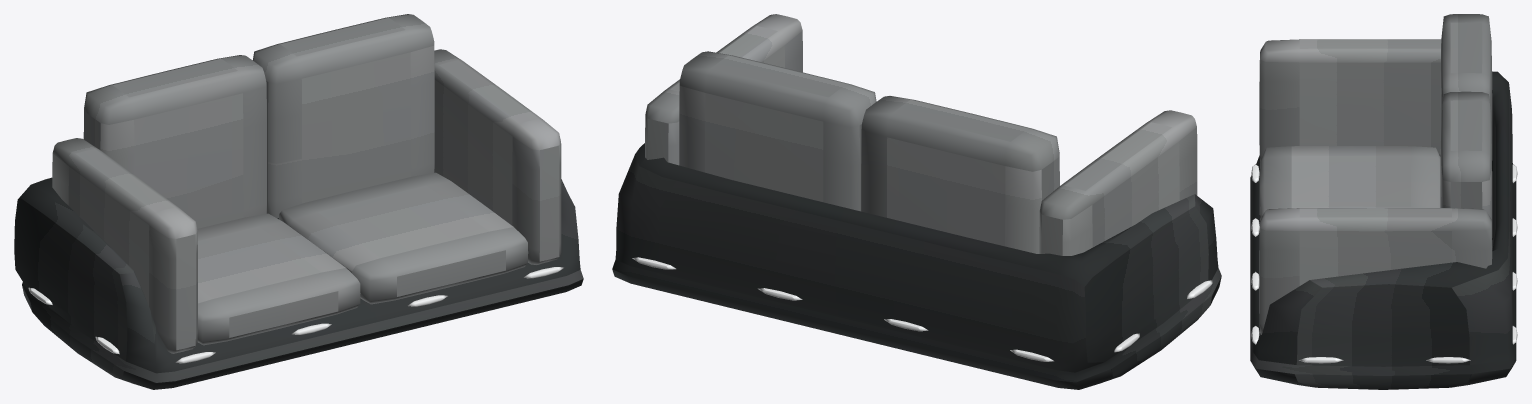
File: Couch02_White.fbx
3 views of the same model, side by side, from view 1: azimuth 30°, elevation 25°; view 2: azimuth 150°, elevation 25°; view 3: azimuth 270°, elevation 25° (orthographic). The views are drawn at different scales.
Parts seen in each view (by area): view 1: Sofa_1; view 2: Sofa_1; view 3: Sofa_1.
Boxes of the visible parts, x1=… form: Sofa_1: x1=14, y1=14, x2=583, y2=389; Sofa_1: x1=612, y1=14, x2=1221, y2=389; Sofa_1: x1=1250, y1=14, x2=1517, y2=389.
Size of the model in its own units: 177 by 77.7 by 92.75.
